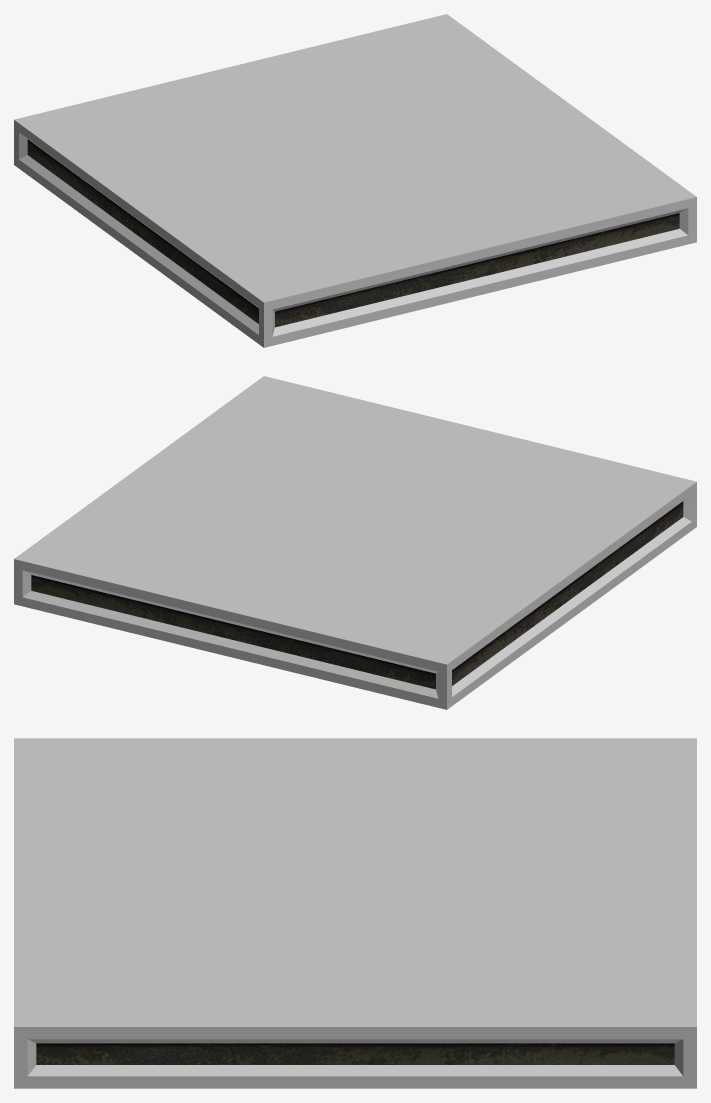
Rendered from floor_ceiling_hr_4_001.fbx.
The picture shows the model from 3 angles, top to bottom: view 1: azimuth 30°, elevation 25°; view 2: azimuth 150°, elevation 25°; view 3: azimuth 270°, elevation 25°; orthographic projection. The views are drawn at different scales.
Parts seen in each view (by area): view 1: floor_ceiling_hr_4.001; view 2: floor_ceiling_hr_4.001; view 3: floor_ceiling_hr_4.001.
Part boxes in pixels (<box>): floor_ceiling_hr_4.001: <box>14,14,696,347</box>; floor_ceiling_hr_4.001: <box>14,376,696,709</box>; floor_ceiling_hr_4.001: <box>14,738,696,1088</box>.
Size of the model in its own units: 4 by 4 by 0.4.
